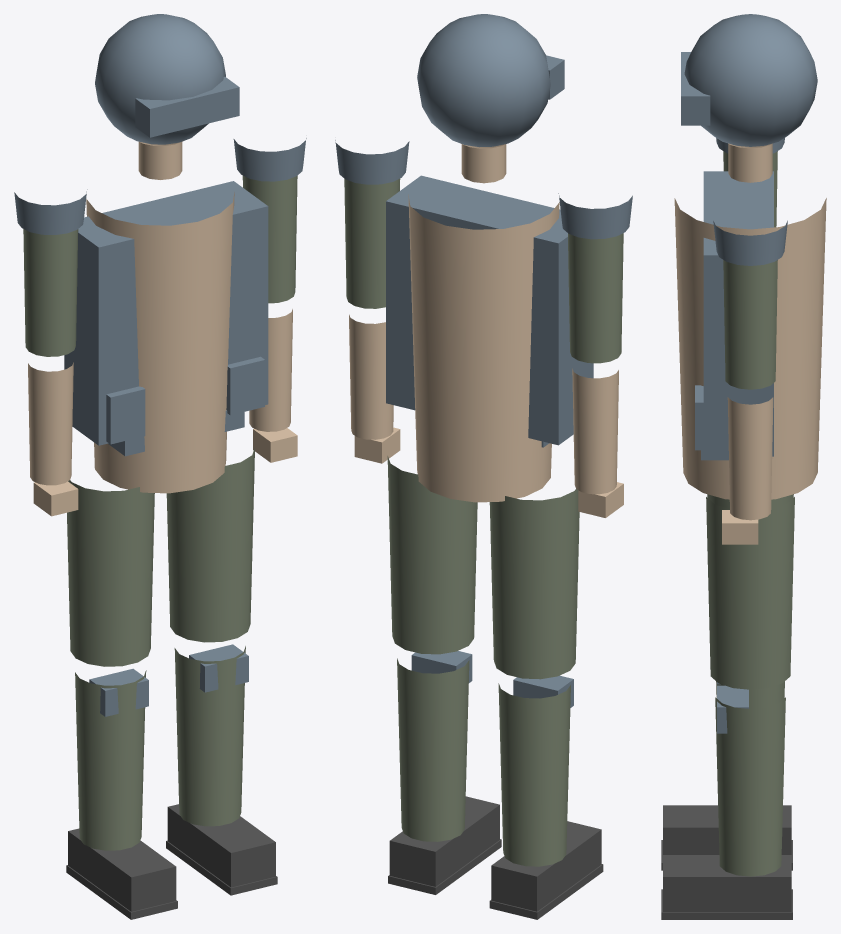
File: player-hd.glb
The picture shows the model from 3 angles, left to right: view 1: azimuth 30°, elevation 25°; view 2: azimuth 150°, elevation 25°; view 3: azimuth 270°, elevation 25°; orthographic projection.
Visible parts, largest first — view 1: player_cloth, player_armor, player_skin, player_boot; view 2: player_cloth, player_skin, player_armor, player_boot; view 3: player_cloth, player_skin, player_armor, player_boot.
Part boxes in pixels (box(x1,y1,x2,y2)): player_cloth: box(23, 175, 297, 850); player_armor: box(14, 14, 306, 716); player_skin: box(28, 141, 297, 516); player_boot: box(66, 804, 277, 919); player_cloth: box(344, 178, 623, 866); player_skin: box(349, 144, 623, 517); player_armor: box(335, 14, 632, 707); player_boot: box(388, 796, 603, 919); player_cloth: box(706, 151, 794, 876); player_skin: box(674, 143, 826, 544); player_armor: box(681, 14, 817, 733); player_boot: box(661, 805, 792, 919).
Bounding box in the file's own units: 0.568 × 1.63 × 0.2825.
